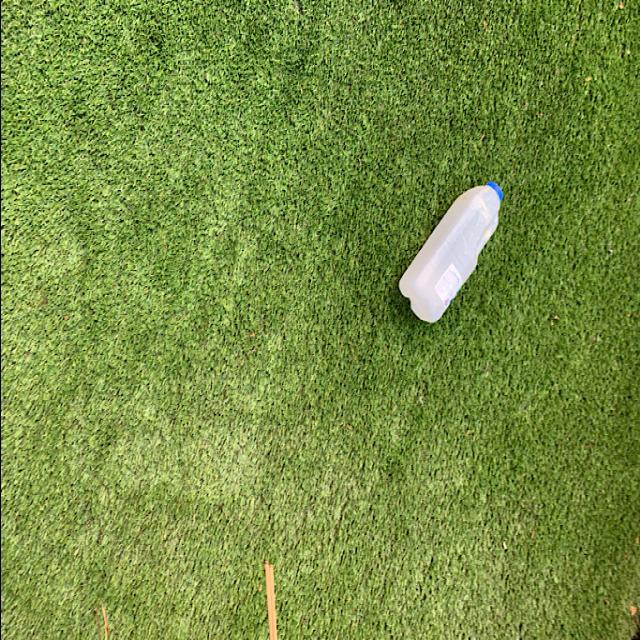HDPEM: (395, 180, 505, 325)
